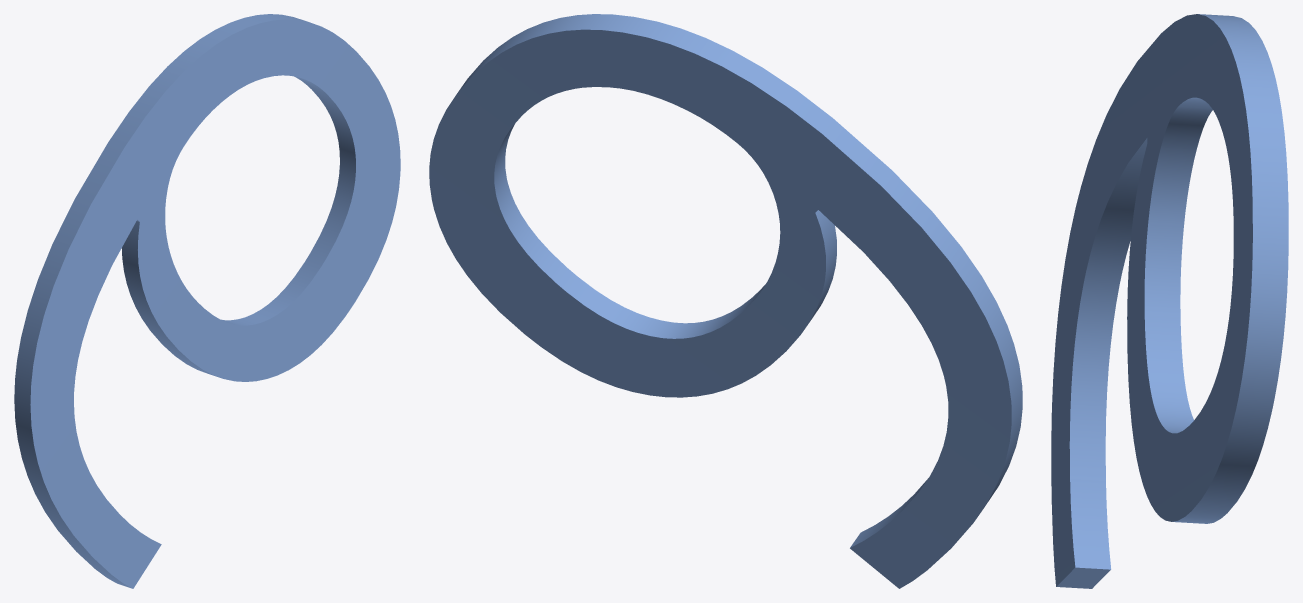
File: New_Number_6.gltf
3 renders of one model, left to right at view 1: azimuth 30°, elevation 25°; view 2: azimuth 150°, elevation 25°; view 3: azimuth 270°, elevation 25°, orthographic. The views are drawn at different scales.
Visible parts, largest first — view 1: Part 420; view 2: Part 420; view 3: Part 420.
Part boxes in pixels (x1,y1,x2,y2): Part 420: (14,14,400,588); Part 420: (429,14,1022,588); Part 420: (1051,14,1288,588).
Size of the model in its own units: 0.00491 by 0.00515 by 0.00165.
